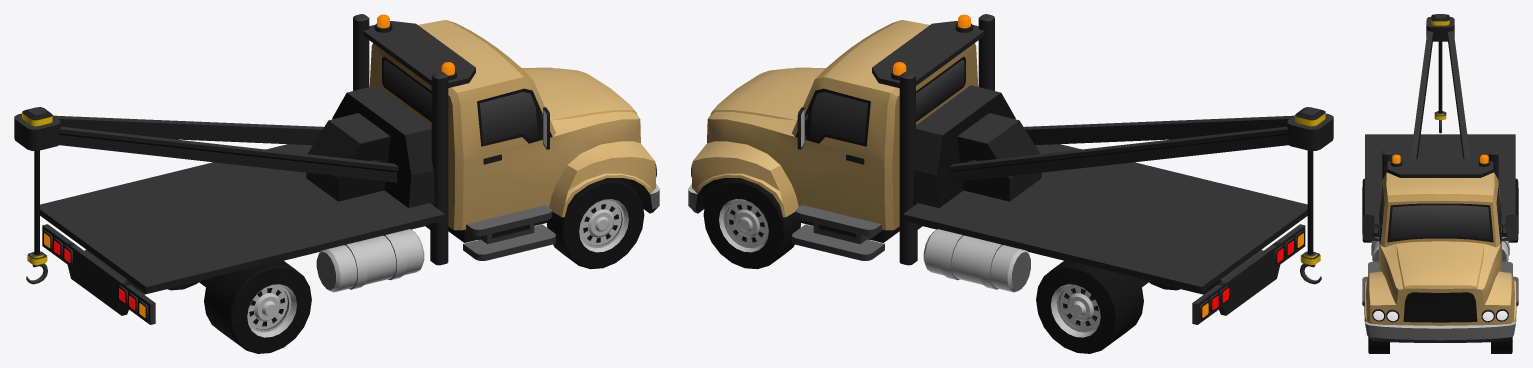
File: Emergency_008.glb
The picture shows the model from 3 angles, left to right: view 1: azimuth 30°, elevation 25°; view 2: azimuth 150°, elevation 25°; view 3: azimuth 270°, elevation 25°; orthographic projection. The views are drawn at different scales.
Parts seen in each view (by area): view 1: Emergency_008, wheel_3_Emergency_008_Wheel_2R, wheel_1_Emergency_008_Wheel_1R; view 2: Emergency_008, wheel_2_Emergency_008_Wheel_2L, wheel_0_Emergency_008_Wheel_1L; view 3: Emergency_008, wheel_0_Emergency_008_Wheel_1L, wheel_1_Emergency_008_Wheel_1R, wheel_2_Emergency_008_Wheel_2L, wheel_3_Emergency_008_Wheel_2R.
Part boxes in pixels (box(x1,y1,x2,y2)): Emergency_008: box(14, 14, 659, 324); wheel_3_Emergency_008_Wheel_2R: box(204, 260, 311, 353); wheel_1_Emergency_008_Wheel_1R: box(546, 178, 644, 269); Emergency_008: box(688, 14, 1333, 324); wheel_2_Emergency_008_Wheel_2L: box(1036, 260, 1143, 353); wheel_0_Emergency_008_Wheel_1L: box(703, 178, 800, 269); Emergency_008: box(1362, 14, 1518, 342); wheel_0_Emergency_008_Wheel_1L: box(1491, 337, 1512, 353); wheel_1_Emergency_008_Wheel_1R: box(1368, 337, 1389, 353); wheel_2_Emergency_008_Wheel_2L: box(1509, 178, 1518, 242); wheel_3_Emergency_008_Wheel_2R: box(1362, 178, 1371, 242).
Bounding box in the file's own units: 6.96 × 2.72 × 2.33.
Materials: 2 (2 with a texture image).
